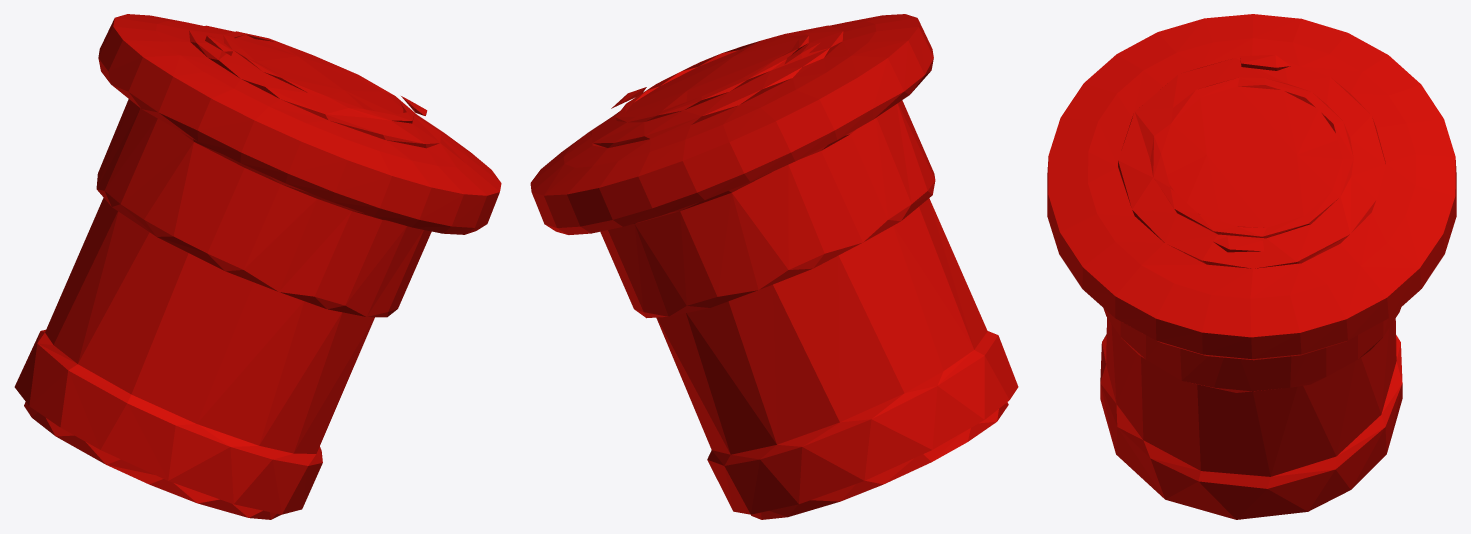
File: emergency_stop.fbx
3 renders of one model, left to right at view 1: azimuth 30°, elevation 25°; view 2: azimuth 150°, elevation 25°; view 3: azimuth 270°, elevation 25°, orthographic. The views are drawn at different scales.
Parts seen in each view (by area): view 1: Emergency Stop; view 2: Emergency Stop; view 3: Emergency Stop.
Part boxes in pixels (bbox=[...]): Emergency Stop: bbox=[14, 14, 501, 519]; Emergency Stop: bbox=[530, 14, 1018, 519]; Emergency Stop: bbox=[1047, 14, 1456, 519].
Bounding box in the file's own units: 4.54 × 4.63 × 3.85.
